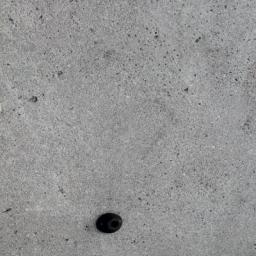FOD: (95, 211, 126, 237)
